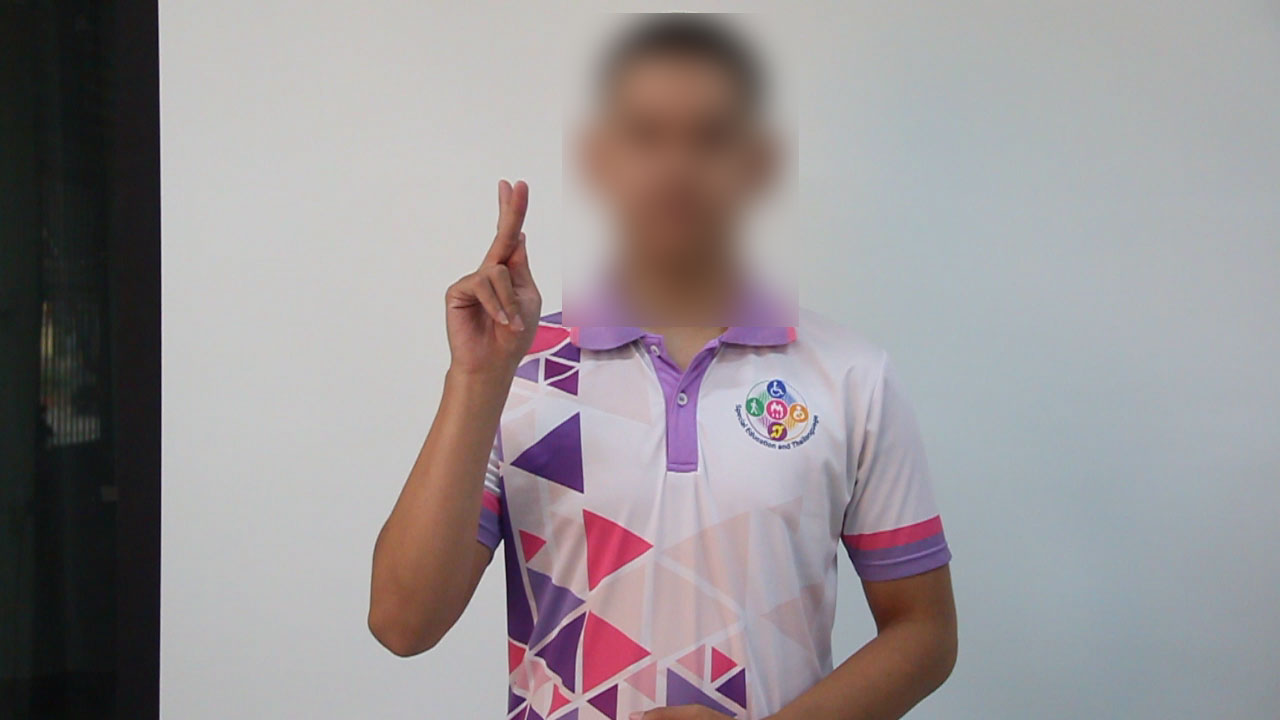ko: (425, 160, 557, 379)
